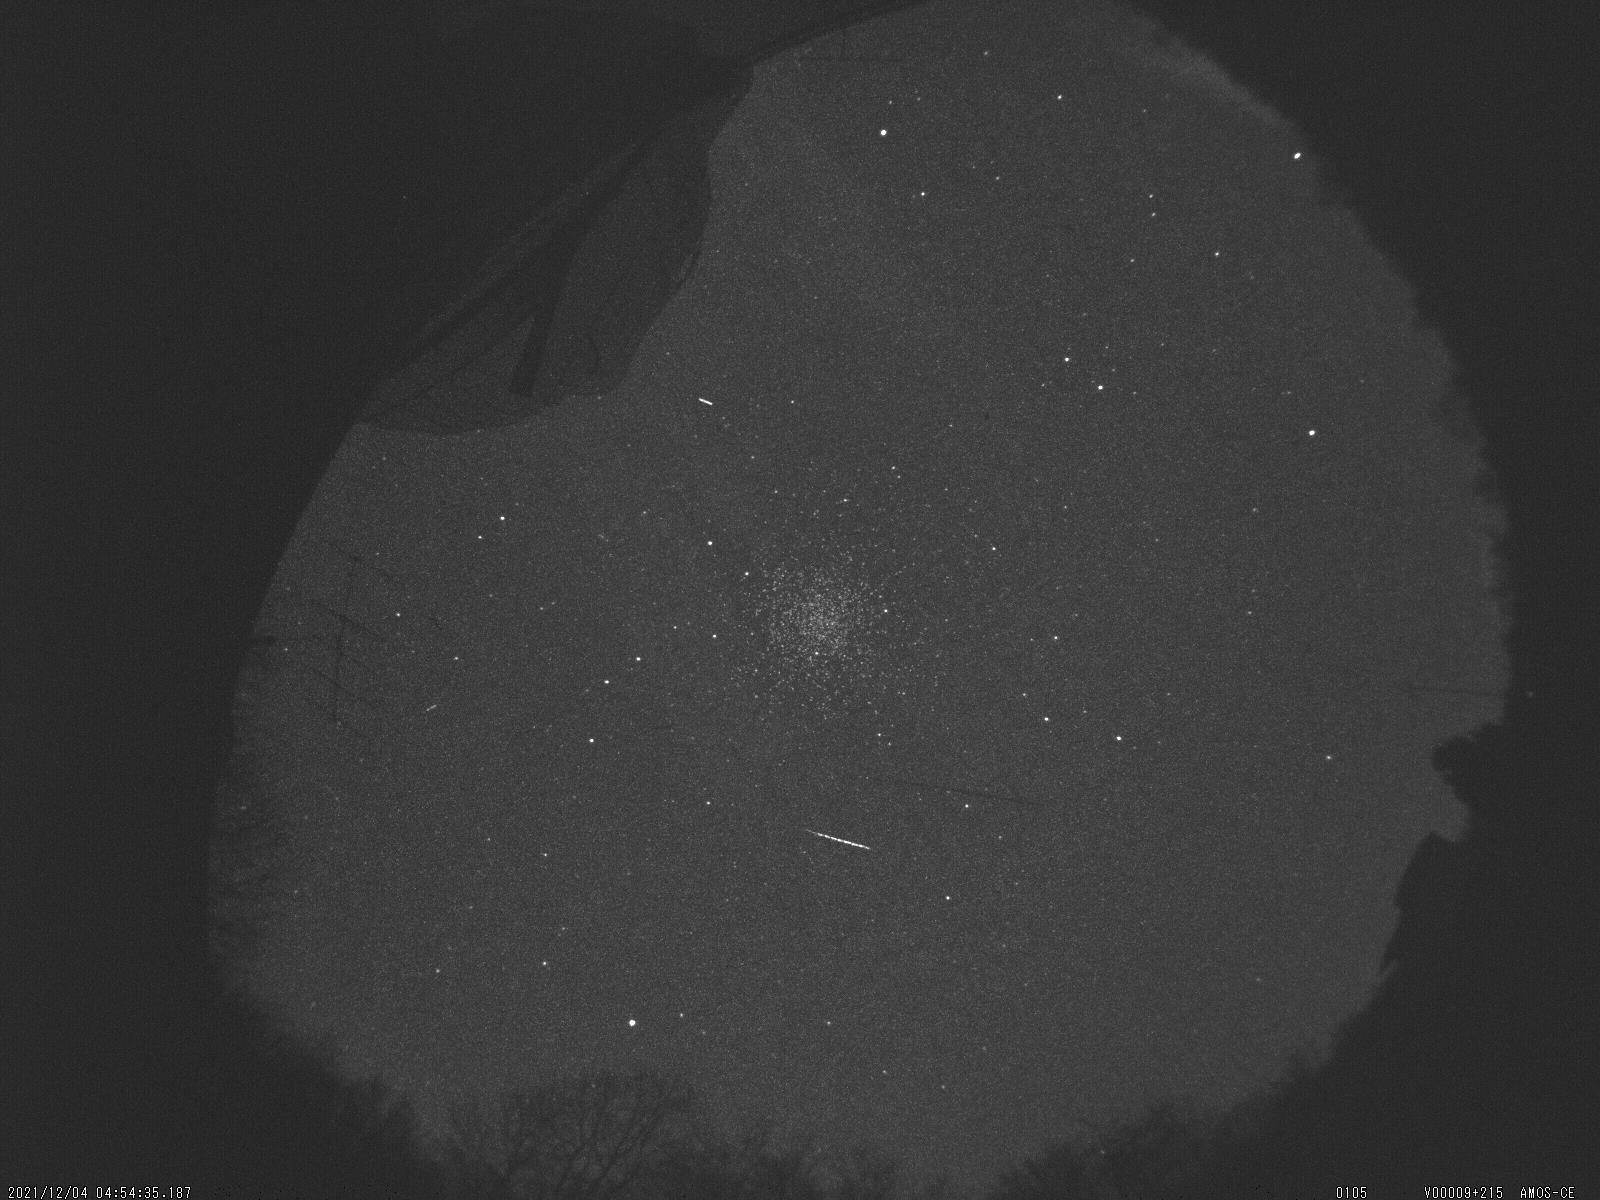Meteor: (790, 819, 878, 860)
